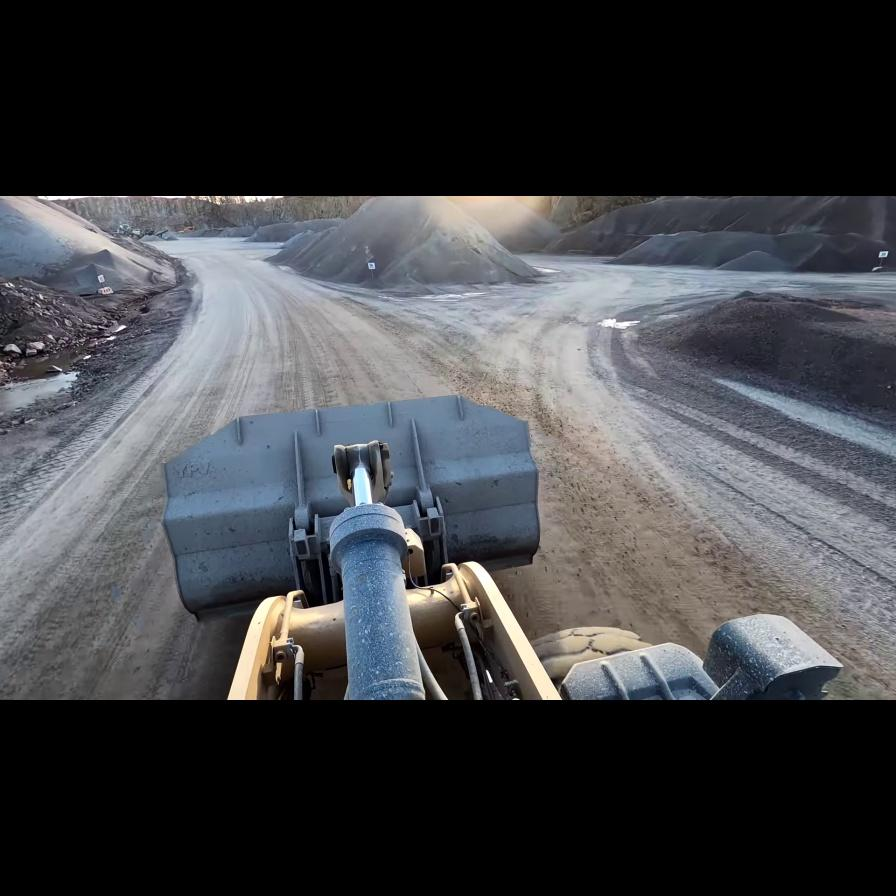anchor: (332, 441, 393, 508)
pile of gravel: (609, 292, 892, 434), (545, 197, 888, 271), (271, 196, 534, 289), (2, 198, 183, 294), (263, 215, 365, 276), (606, 232, 721, 267), (545, 219, 651, 255), (251, 219, 340, 243), (211, 225, 256, 239)
